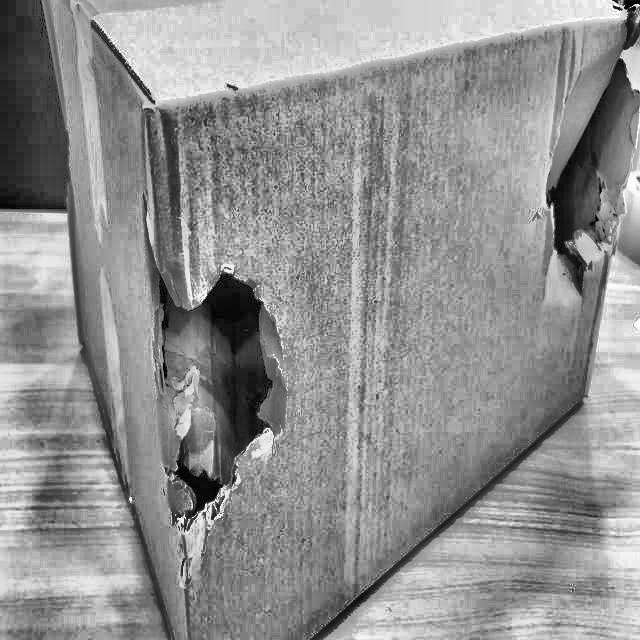box: (27, 0, 639, 639)
hole: (137, 252, 297, 590), (538, 49, 640, 303)
